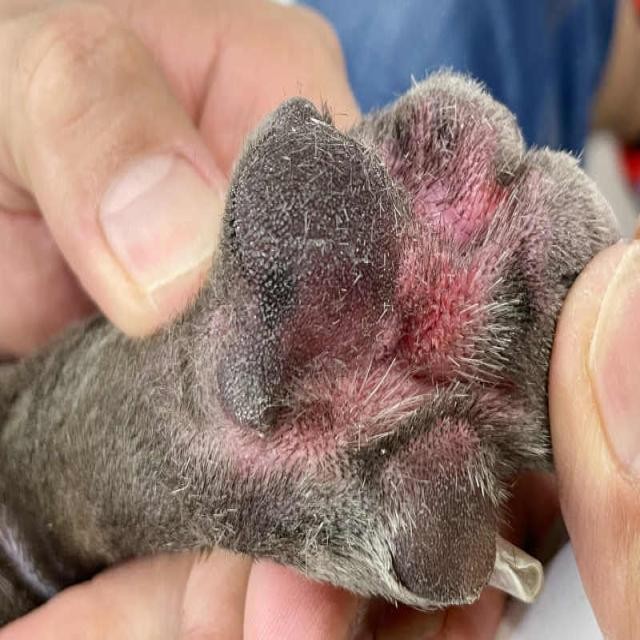fungal infection: (377, 104, 532, 385), (283, 361, 489, 485)
